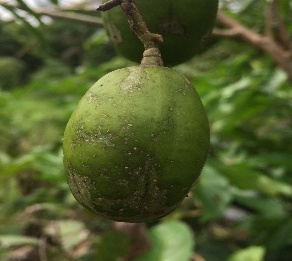Coc: (51, 54, 225, 229)
